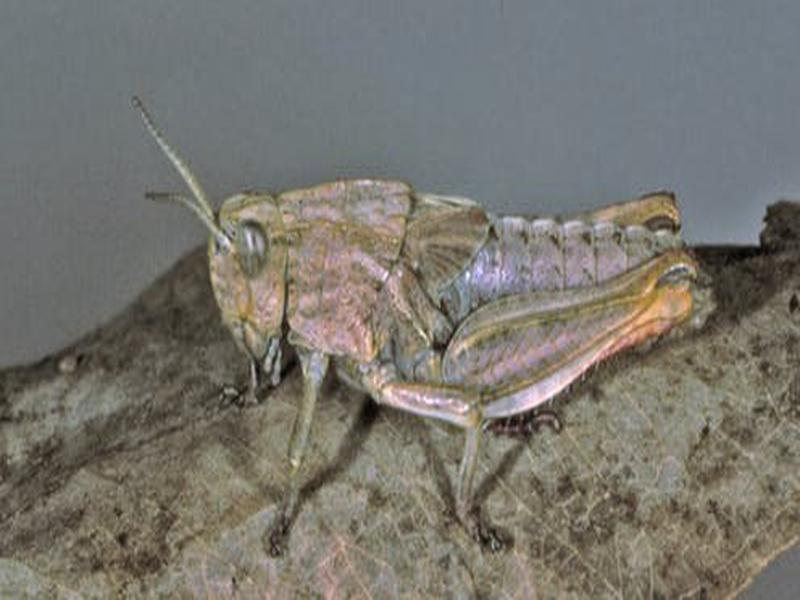Grasshopper: (182, 136, 713, 474)
